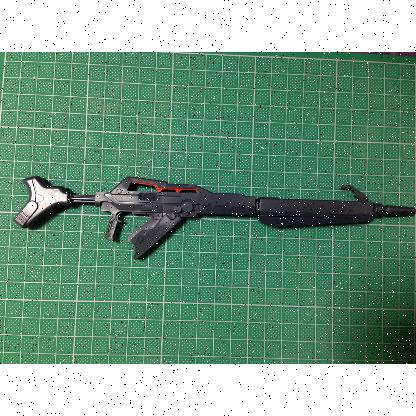gun: (15, 176, 416, 258)
